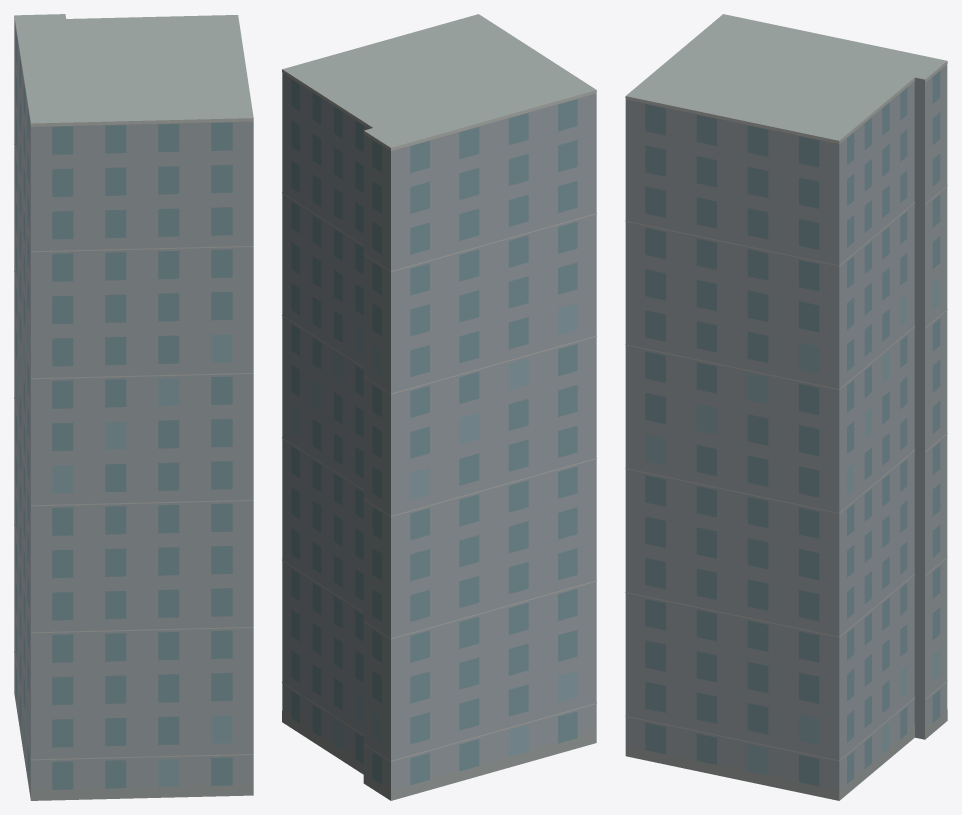
Rendered from survey-upis-32881759.glb.
The picture shows the model from 3 angles, left to right: view 1: azimuth 30°, elevation 25°; view 2: azimuth 150°, elevation 25°; view 3: azimuth 270°, elevation 25°; orthographic projection. The views are drawn at different scales.
Visible parts, largest first — view 1: survey-upis-32881759.tmp; view 2: survey-upis-32881759.tmp; view 3: survey-upis-32881759.tmp.
Boxes of the visible parts, x1,y1,x2,y2 form: survey-upis-32881759.tmp: (14, 14, 253, 800); survey-upis-32881759.tmp: (282, 14, 596, 800); survey-upis-32881759.tmp: (625, 14, 947, 800).
Size of the model in its own units: 20.34 by 49.3 by 21.81.
